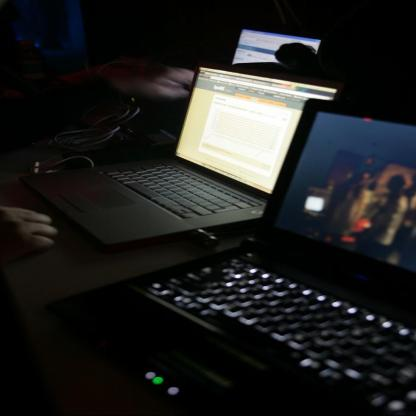board: (47, 98, 416, 416), (20, 63, 344, 247), (230, 25, 328, 65)
